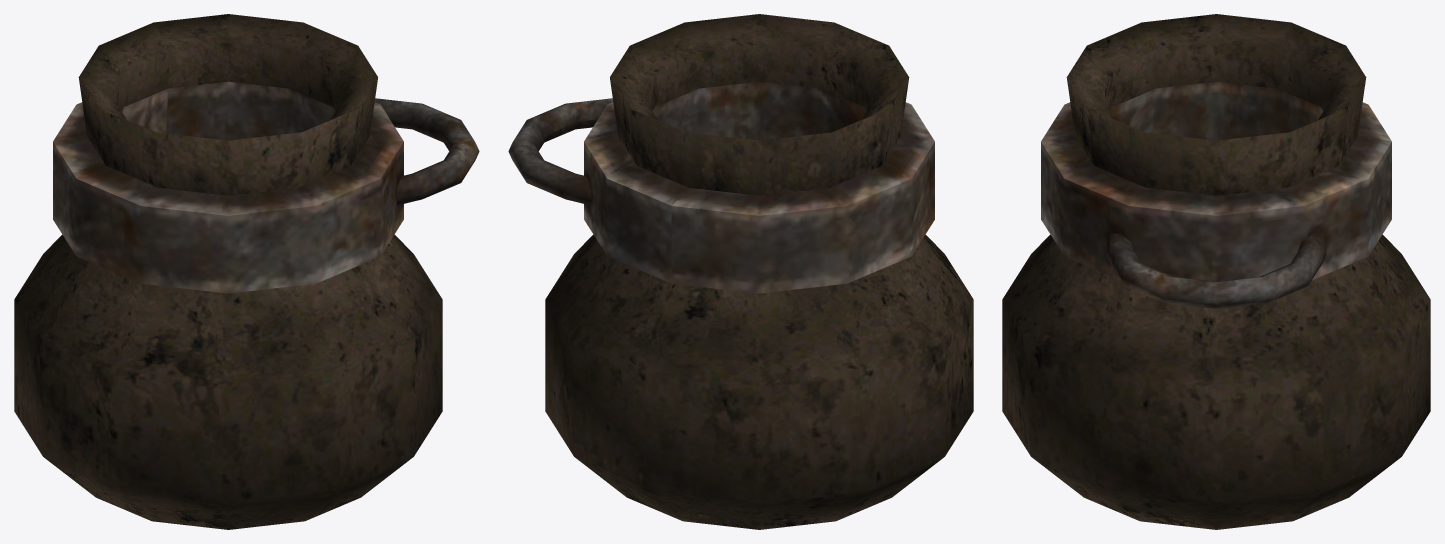
Rendered from glass_container.dae.
3 renders of one model, left to right at view 1: azimuth 30°, elevation 25°; view 2: azimuth 150°, elevation 25°; view 3: azimuth 270°, elevation 25°, orthographic.
Parts seen in each view (by area): view 1: polySurface20, polySurface19; view 2: polySurface20, polySurface19; view 3: polySurface20, polySurface19.
Part boxes in pixels (left/top/right/bottom): polySurface20: left=14, top=14, right=442, bottom=529; polySurface19: left=53, top=81, right=479, bottom=293; polySurface20: left=545, top=14, right=973, bottom=529; polySurface19: left=508, top=81, right=934, bottom=293; polySurface20: left=1002, top=14, right=1430, bottom=529; polySurface19: left=1041, top=81, right=1391, bottom=308.
Size of the model in its own units: 0.5174 by 0.4549 by 0.4549.
